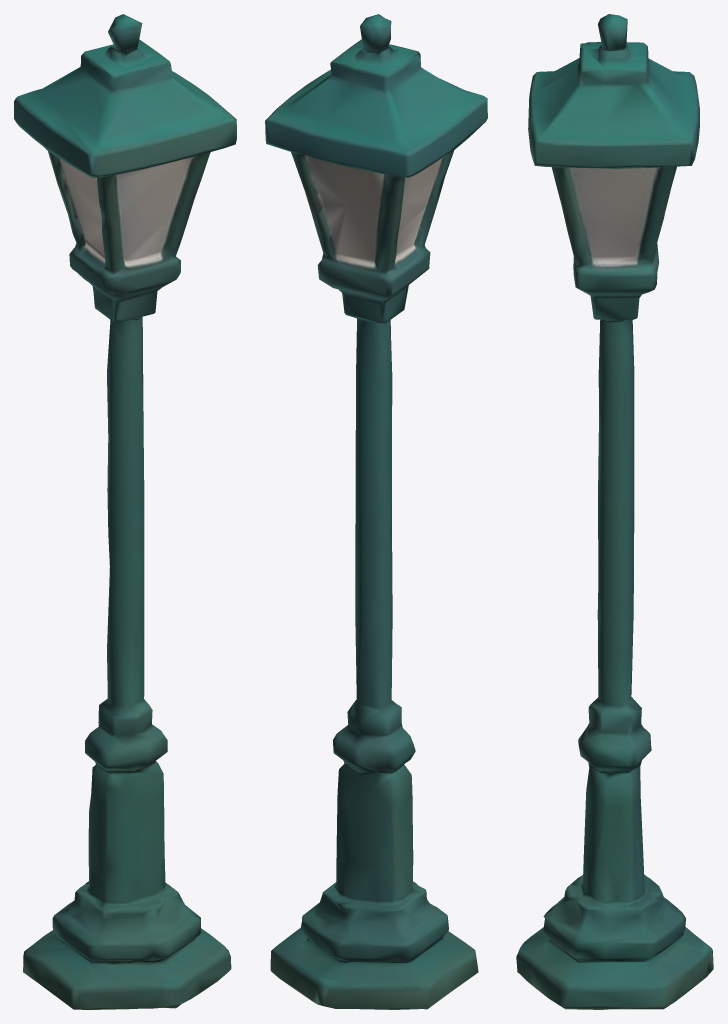
The model's file is lamp.glb.
3 renders of one model, left to right at view 1: azimuth 30°, elevation 25°; view 2: azimuth 150°, elevation 25°; view 3: azimuth 270°, elevation 25°, orthographic.
Visible parts, largest first — view 1: tripo_node_0d09cee6-b0b0-4fc4-aedb-1475e610c357; view 2: tripo_node_0d09cee6-b0b0-4fc4-aedb-1475e610c357; view 3: tripo_node_0d09cee6-b0b0-4fc4-aedb-1475e610c357.
Boxes of the visible parts, x1,y1,x2,y2 form: tripo_node_0d09cee6-b0b0-4fc4-aedb-1475e610c357: (14, 14, 236, 1009); tripo_node_0d09cee6-b0b0-4fc4-aedb-1475e610c357: (265, 14, 487, 1009); tripo_node_0d09cee6-b0b0-4fc4-aedb-1475e610c357: (516, 14, 713, 1009).
Size of the model in its own units: 0.1751 by 1 by 0.1872.
Materials: 1 (1 with a texture image).
